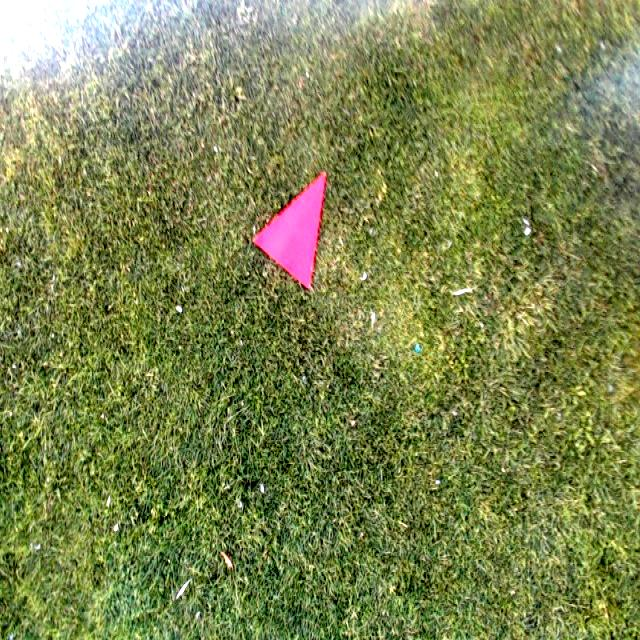red_triangle: (252, 173, 330, 290)
